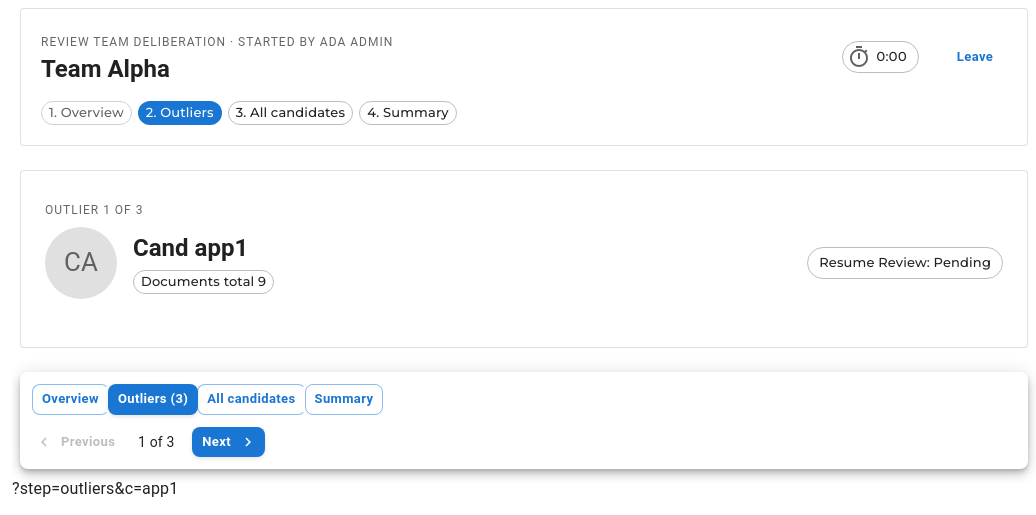
Scenario: ReviewDelib: every viewer moves on their own › skips a sealed candidate in the walkthrough
The image size is (1036, 515).
expect the text with test id "where" shows "c=app1": met, box [12,479,178,498]
Step 1. Click the button "Next" → (229,442), box [192,427,265,458]
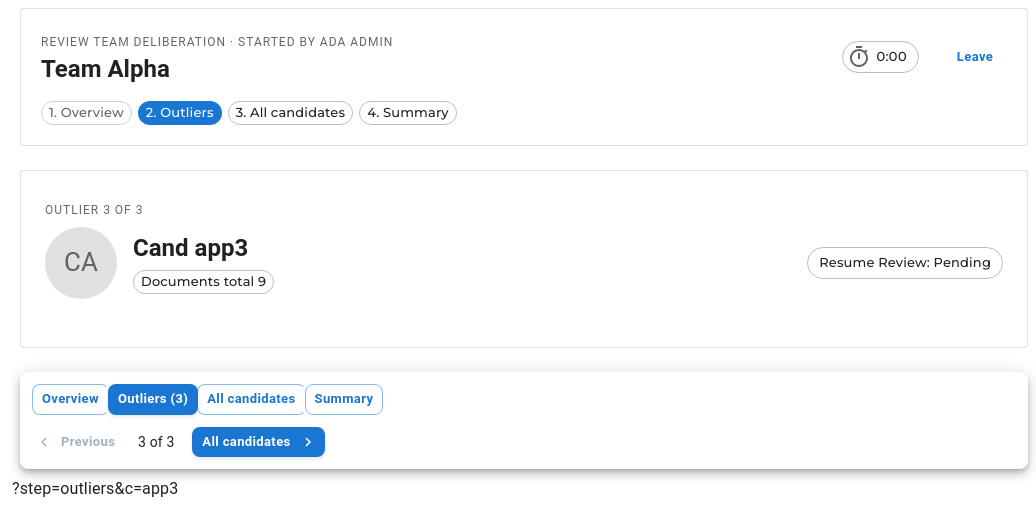
expect the text with test id "where" shows "c=app3": met, box [12,479,178,498]
